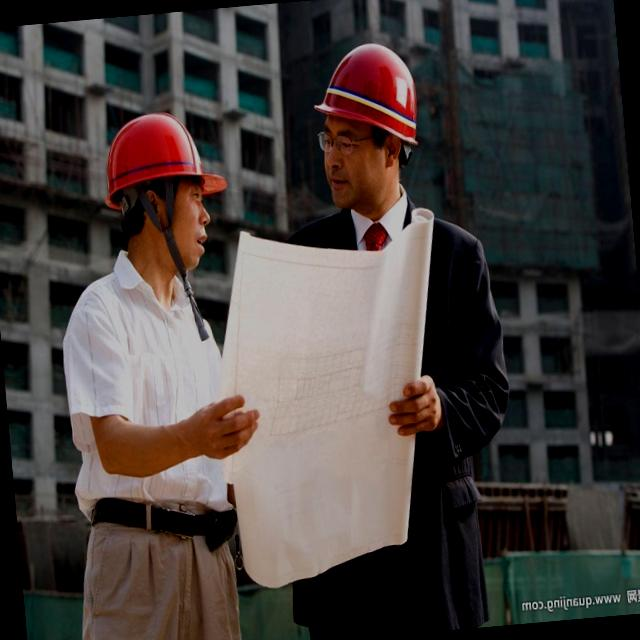helmet: (300, 37, 430, 166), (92, 100, 234, 208)
no-vest: (65, 251, 226, 518)
